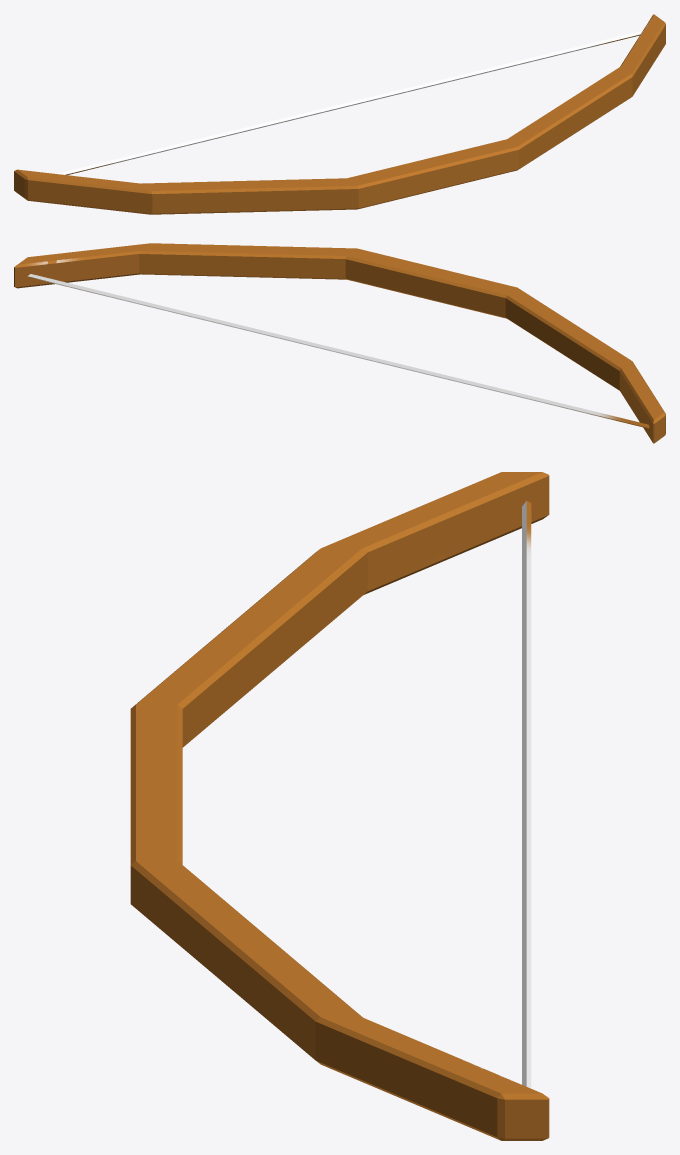
The model's file is Bow.obj.
3 views of the same model, one above another, from view 1: azimuth 30°, elevation 25°; view 2: azimuth 150°, elevation 25°; view 3: azimuth 270°, elevation 25° (orthographic). The views are drawn at different scales.
Parts seen in each view (by area): view 1: String; view 2: String; view 3: String.
Part boxes in pixels (left/top/right/bottom): String: left=14, top=14, right=665, bottom=214; String: left=14, top=243, right=665, bottom=443; String: left=130, top=472, right=549, bottom=1140.
Size of the model in its own units: 0.9997 by 0.0353 by 0.283.
1 material, 1 textured.
